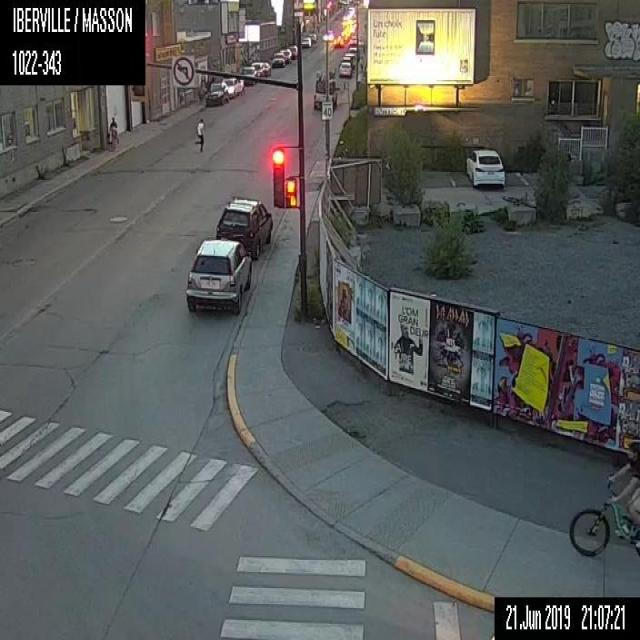cyclist: (568, 440, 639, 555)
pedestrian: (108, 113, 120, 153), (193, 116, 205, 153)
vehicle: (184, 240, 252, 314), (209, 192, 272, 252), (466, 149, 506, 188), (312, 72, 336, 108), (205, 79, 230, 104), (220, 77, 246, 96), (240, 65, 256, 83), (270, 51, 285, 68), (250, 61, 264, 78), (338, 60, 352, 76), (260, 61, 272, 76), (279, 48, 291, 62), (288, 42, 298, 58), (321, 28, 333, 40), (300, 36, 311, 47), (307, 32, 317, 42)
